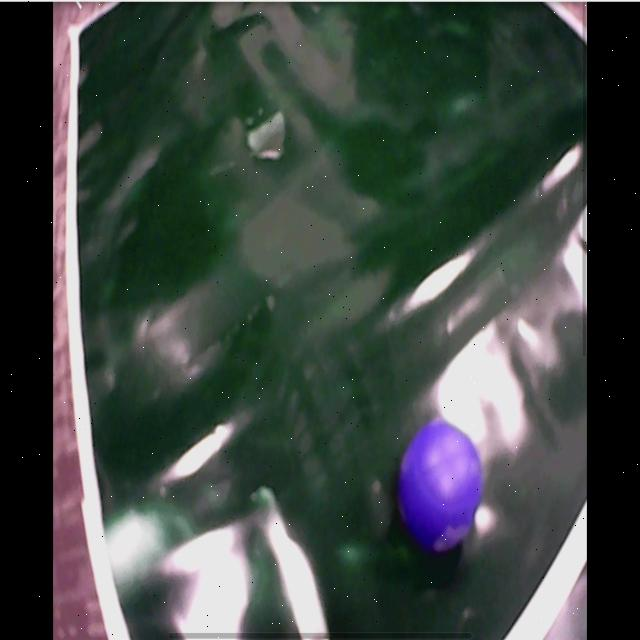ball: (400, 421, 483, 547)
